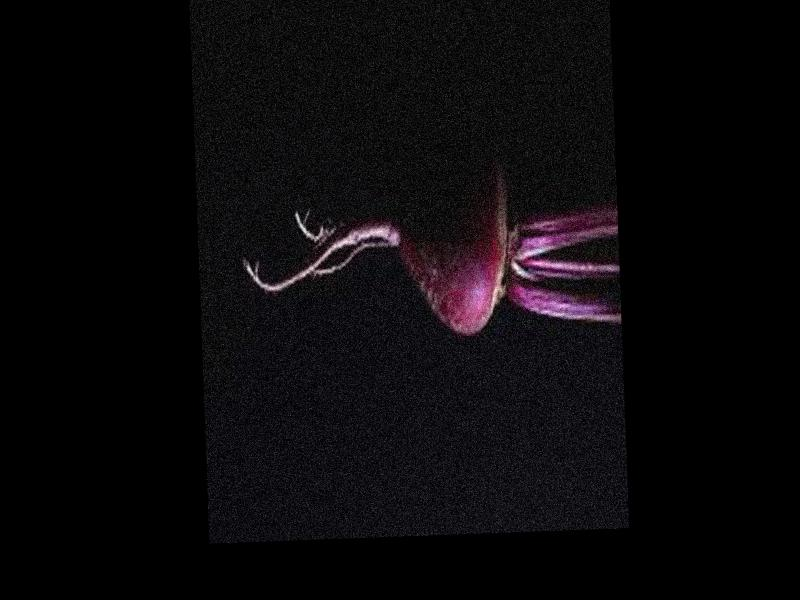Beet: (238, 136, 620, 355)
